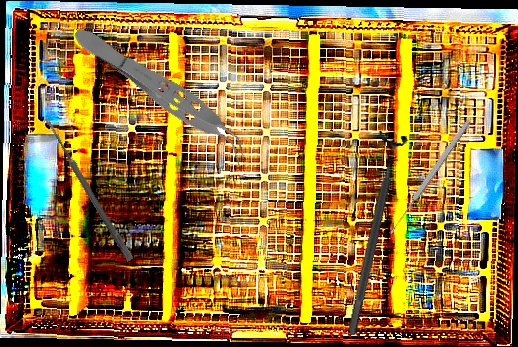Fixation Ring: (335, 130, 410, 338)
Surgical Spoon: (42, 116, 135, 262), (386, 117, 473, 237)
Tissue Forceps: (66, 18, 259, 168)
